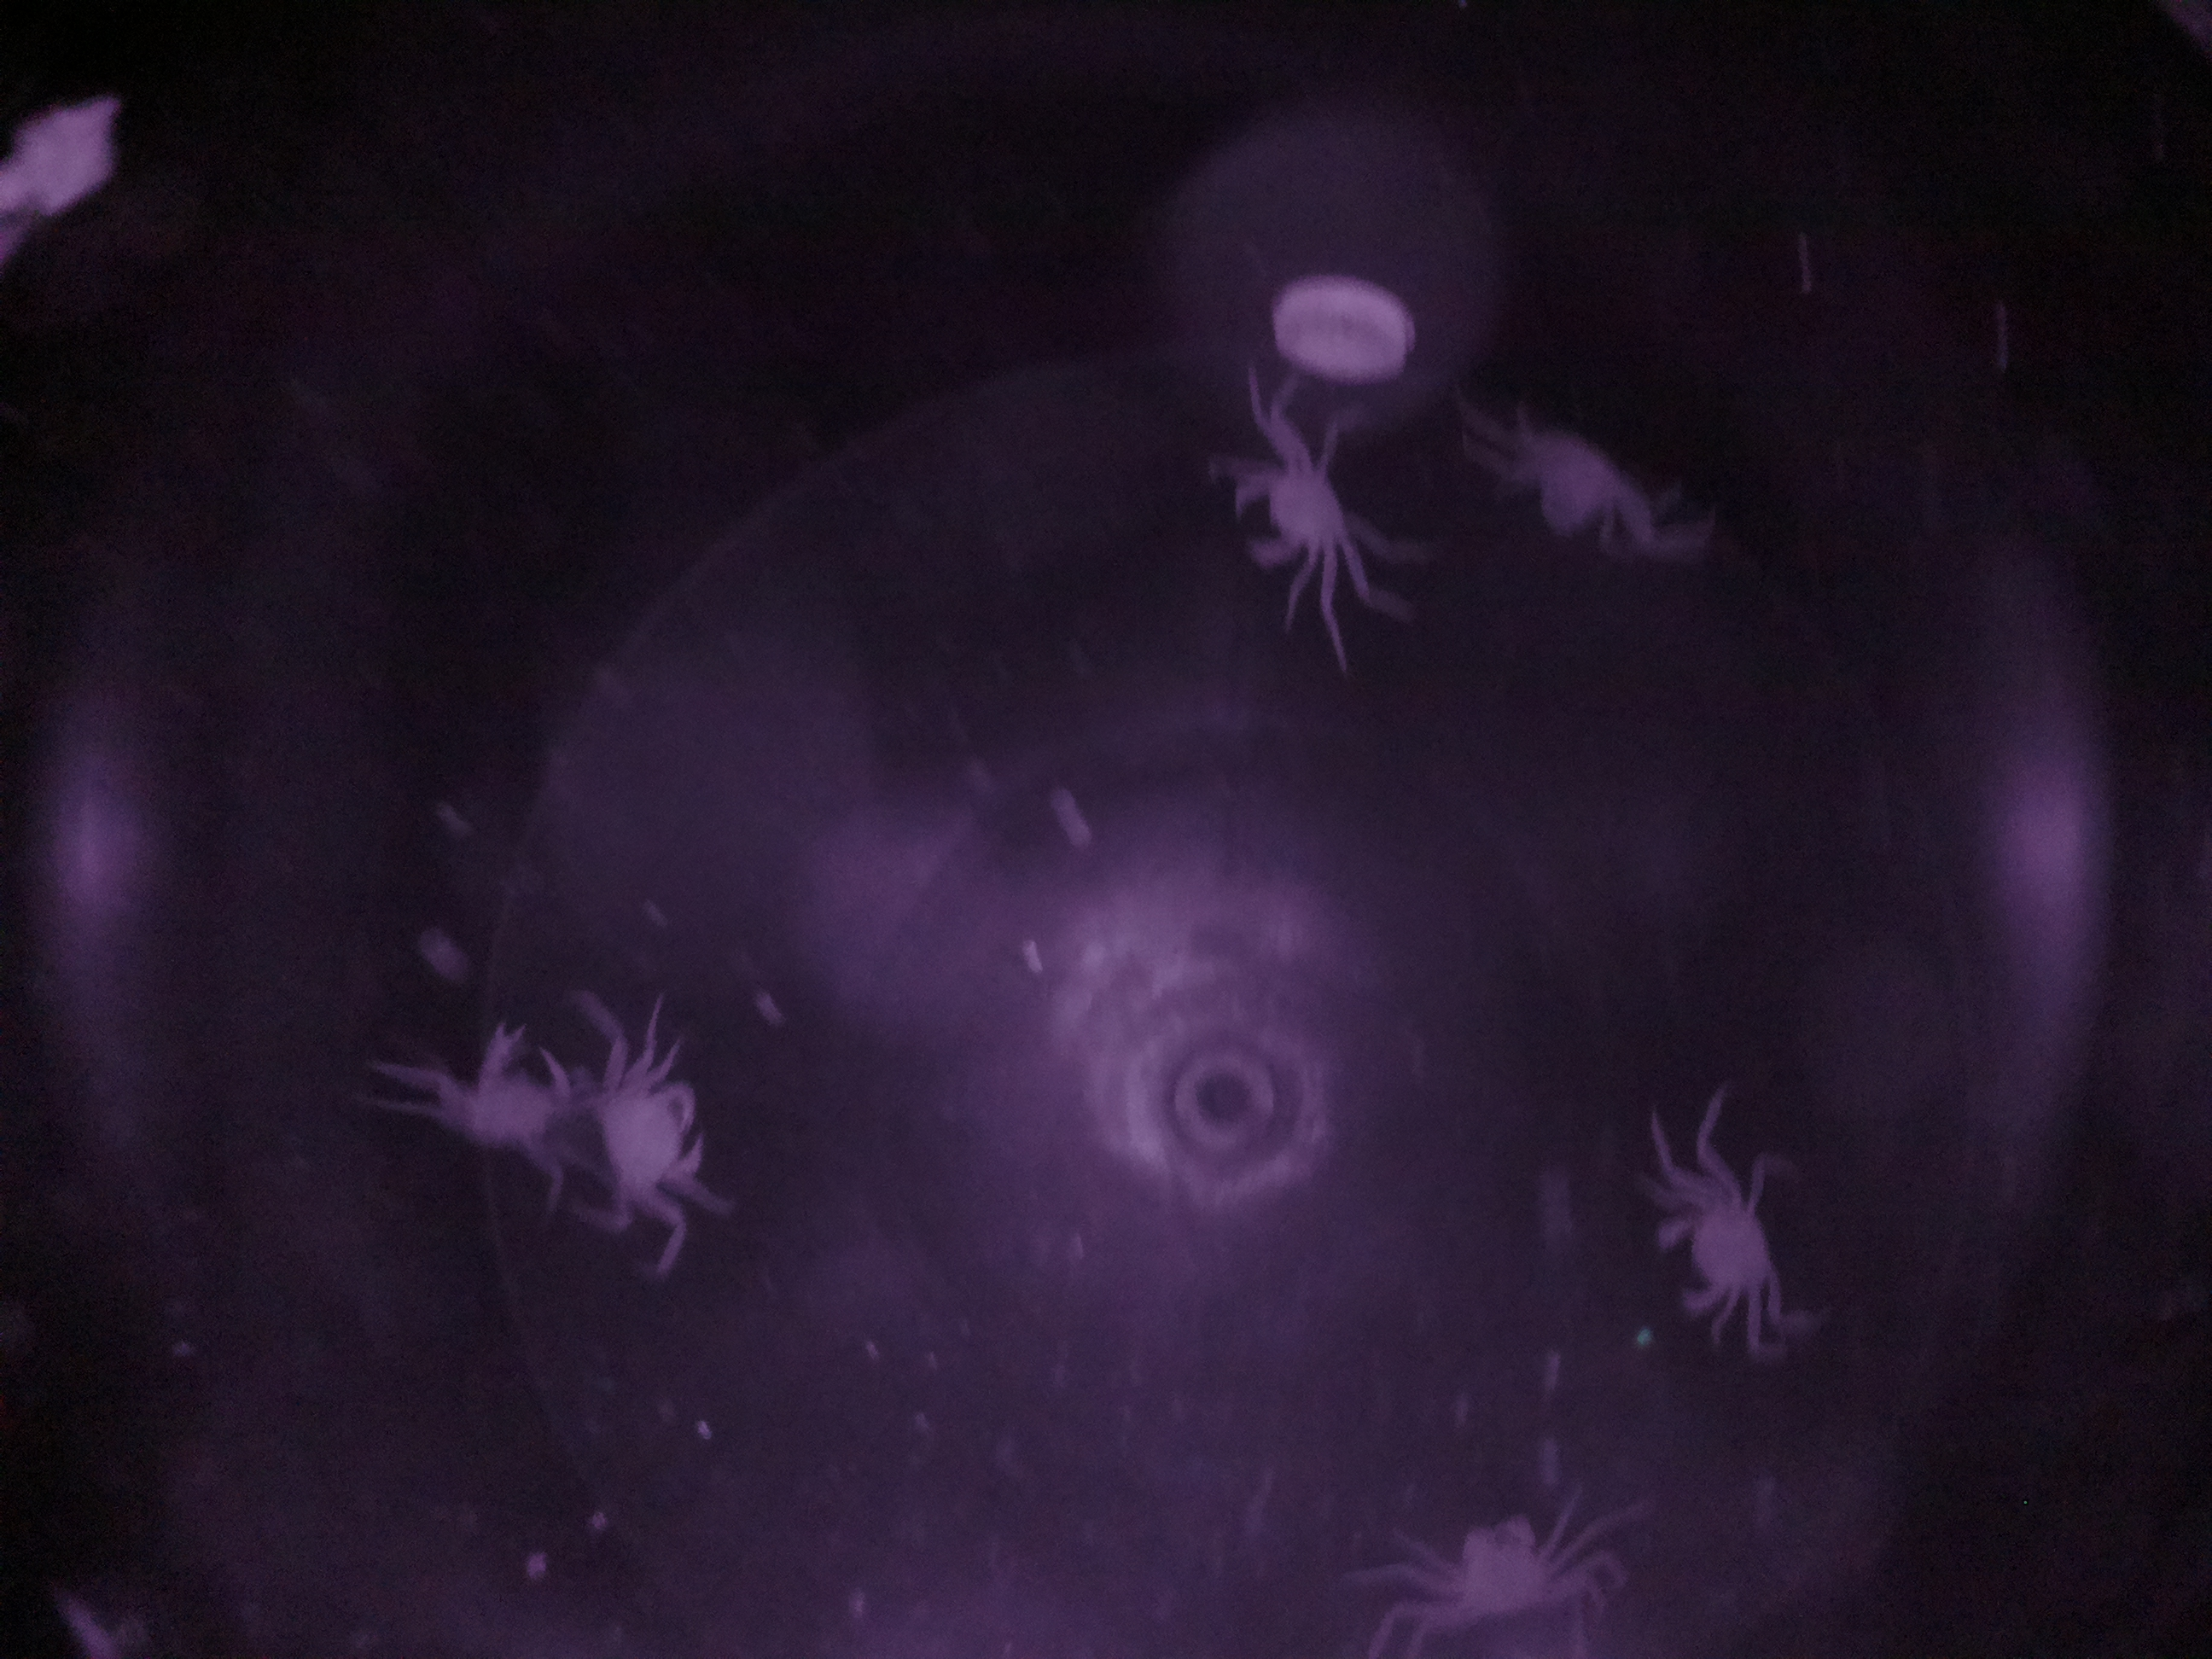Crab: (1618, 1141, 1808, 1340), (1226, 403, 1381, 608)
